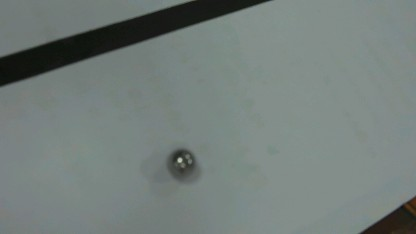ironball: (167, 149, 195, 179)
